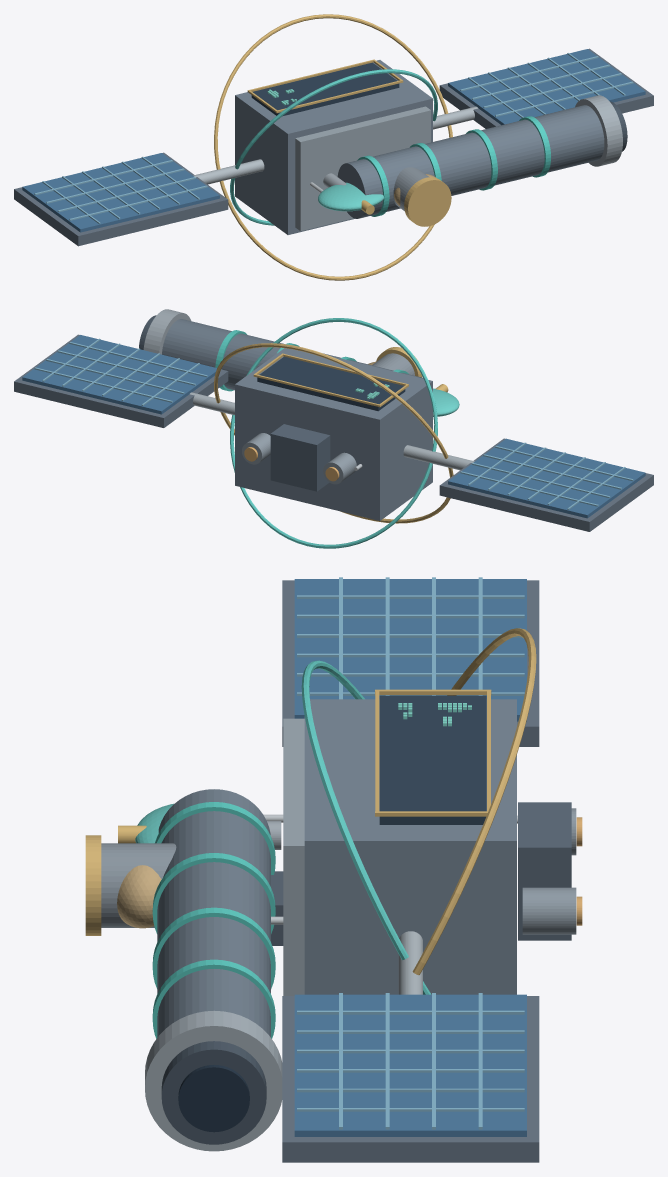
Rendered from slide-8-2.glb.
The picture shows the model from 3 angles, top to bottom: view 1: azimuth 30°, elevation 25°; view 2: azimuth 150°, elevation 25°; view 3: azimuth 270°, elevation 25°; orthographic projection. The views are drawn at different scales.
Parts seen in each view (by area): view 1: part_028_Potato launcher barrel, part_000_Satellite central bus, part_004_Blue solar panel, part_001_Top equipment panel, part_017_Blue solar panel, part_045_Side logo plaque, part_003_Solar panel frame, part_094_Decorative orbital ring, part_038_Loading chamber rim, part_093_Decorative orbital ring, part_029_Muzzle collar, part_016_Solar panel frame (+9 smaller); view 2: part_000_Satellite central bus, part_004_Blue solar panel, part_017_Blue solar panel, part_028_Potato launcher barrel, part_045_Side logo plaque, part_088_Underside propulsion module, part_003_Solar panel frame, part_016_Solar panel frame, part_093_Decorative orbital ring, part_094_Decorative orbital ring, part_029_Muzzle collar, part_002_Solar panel boom (+15 smaller); view 3: part_000_Satellite central bus, part_017_Blue solar panel, part_004_Blue solar panel, part_028_Potato launcher barrel, part_045_Side logo plaque, part_016_Solar panel frame, part_029_Muzzle collar, part_001_Top equipment panel, part_088_Underside propulsion module, part_030_Muzzle opening, part_031_Barrel bore, part_094_Decorative orbital ring (+20 smaller).
Part boxes in pixels (box(x1,y1,x2,y2)): part_028_Potato launcher barrel: box(337, 105, 604, 218); part_000_Satellite central bus: box(235, 60, 432, 234); part_004_Blue solar panel: box(22, 153, 219, 232); part_001_Top equipment panel: box(295, 106, 430, 231); part_017_Blue solar panel: box(448, 49, 645, 125); part_045_Side logo plaque: box(251, 62, 399, 116); part_003_Solar panel frame: box(14, 152, 228, 246); part_094_Decorative orbital ring: box(214, 14, 452, 280); part_038_Loading chamber rim: box(404, 177, 451, 226); part_093_Decorative orbital ring: box(230, 69, 437, 225); part_029_Muzzle collar: box(575, 95, 622, 166); part_016_Solar panel frame: box(439, 48, 653, 128); part_000_Satellite central bus: box(235, 348, 432, 520); part_004_Blue solar panel: box(448, 438, 645, 518); part_017_Blue solar panel: box(22, 335, 216, 414); part_028_Potato launcher barrel: box(162, 319, 423, 390); part_045_Side logo plaque: box(257, 356, 405, 411); part_088_Underside propulsion module: box(270, 424, 330, 491); part_003_Solar panel frame: box(439, 438, 653, 531); part_016_Solar panel frame: box(14, 334, 228, 427); part_093_Decorative orbital ring: box(230, 318, 437, 548); part_094_Decorative orbital ring: box(214, 343, 453, 523); part_029_Muzzle collar: box(143, 309, 191, 354); part_002_Solar panel boom: box(403, 445, 474, 470); part_000_Satellite central bus: box(304, 699, 516, 994); part_017_Blue solar panel: box(294, 994, 526, 1136); part_004_Blue solar panel: box(294, 579, 526, 721); part_028_Potato launcher barrel: box(157, 789, 270, 1037); part_045_Side logo plaque: box(379, 695, 486, 824); part_016_Solar panel frame: box(282, 996, 539, 1162); part_029_Muzzle collar: box(145, 1010, 282, 1151); part_001_Top equipment panel: box(283, 718, 304, 995); part_088_Underside propulsion module: box(518, 802, 571, 940); part_030_Muzzle opening: box(161, 1041, 266, 1144); part_031_Barrel bore: box(178, 1064, 249, 1132); part_094_Decorative orbital ring: box(412, 628, 536, 975).
Size of the model in its own units: 5.95 by 2.13 by 2.22.
